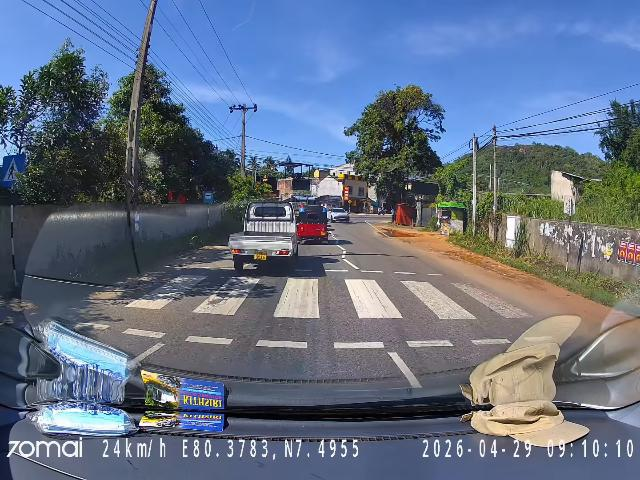number plate: (252, 251, 269, 260)
